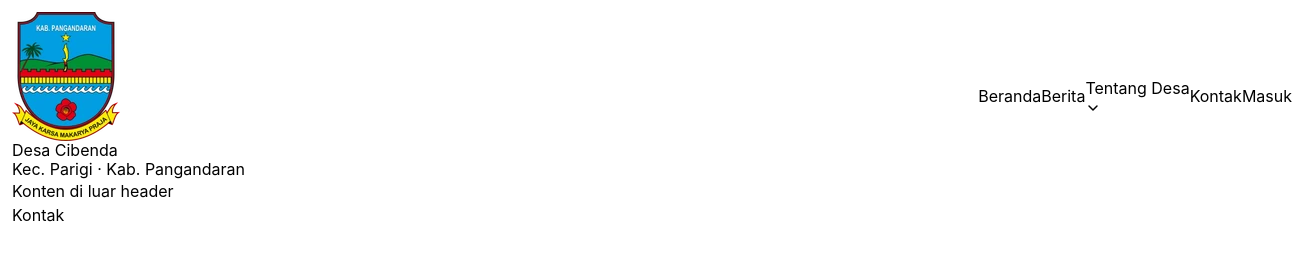
Test case: BerandaHeader › dropdown Tentang Desa (A3–A7) › is a button wired to its panel with aria-expanded and aria-controls
Click the button "Tentang Desa": (1138,96) [1085,76,1190,116]
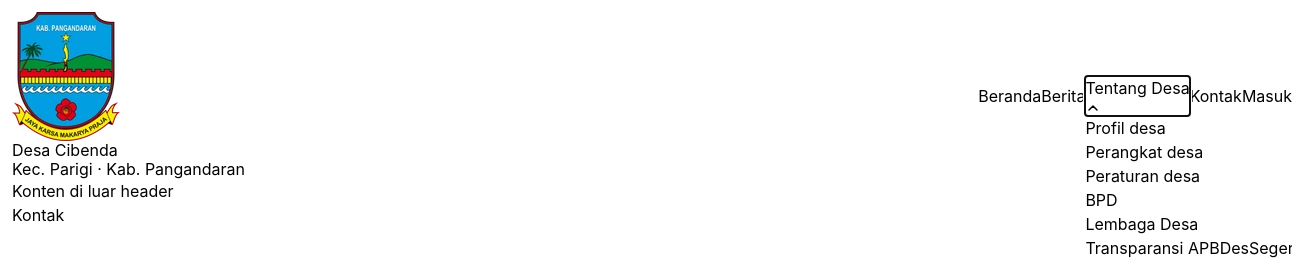
expect the button "Tentang Desa" is expanded: met
Click the button "Tentang Desa": (1138,96) [1085,76,1190,116]
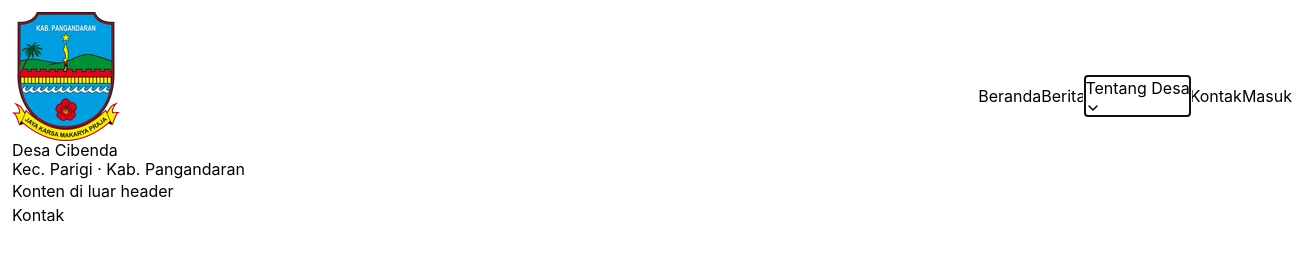
expect the button "Tentang Desa" is collapsed: met, box [1085,76,1190,116]
